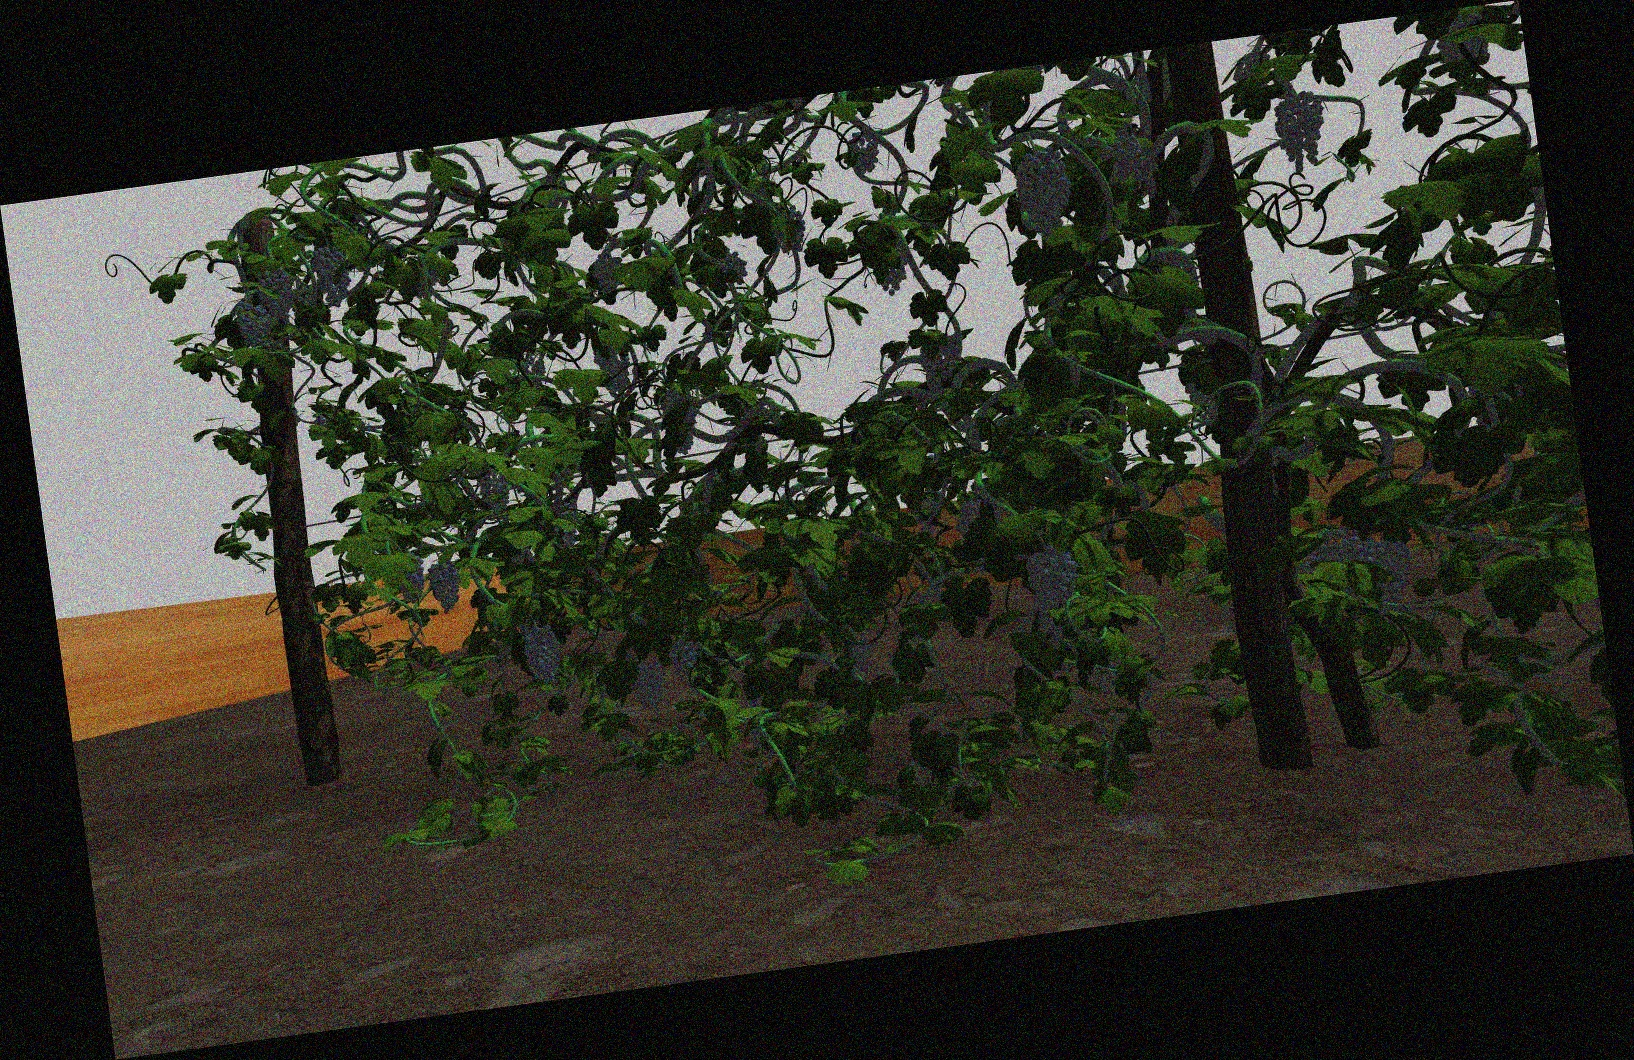grape: (1029, 544, 1083, 646), (1015, 146, 1072, 236), (1274, 91, 1327, 172), (1370, 541, 1415, 613), (919, 333, 963, 391), (523, 628, 565, 687), (313, 245, 353, 308), (1106, 132, 1152, 186), (1309, 528, 1366, 568), (258, 264, 297, 325), (595, 343, 634, 399), (630, 657, 667, 713), (430, 562, 463, 616), (237, 301, 273, 350), (846, 131, 879, 177), (668, 636, 699, 682), (843, 632, 877, 675), (478, 467, 509, 512), (398, 556, 426, 603), (593, 251, 620, 295), (713, 251, 748, 286)
